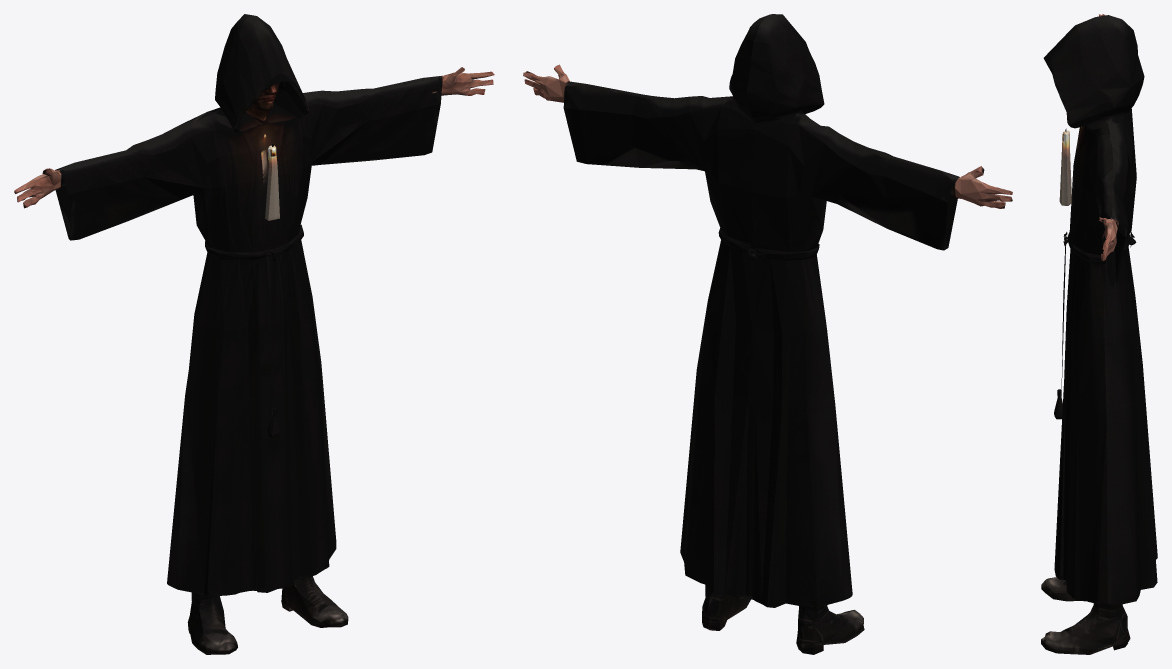
3 renders of one model, left to right at view 1: azimuth 30°, elevation 25°; view 2: azimuth 150°, elevation 25°; view 3: azimuth 270°, elevation 25°, orthographic.
Visible parts, largest first — view 1: world; view 2: world; view 3: world.
Part boxes in pixels (bbox=[...]): world: bbox=[14, 14, 494, 654]; world: bbox=[523, 14, 1012, 654]; world: bbox=[1041, 14, 1157, 654].
Bounding box in the file's own units: 1.62 × 1.96 × 0.3418.
1 material, 1 textured.
